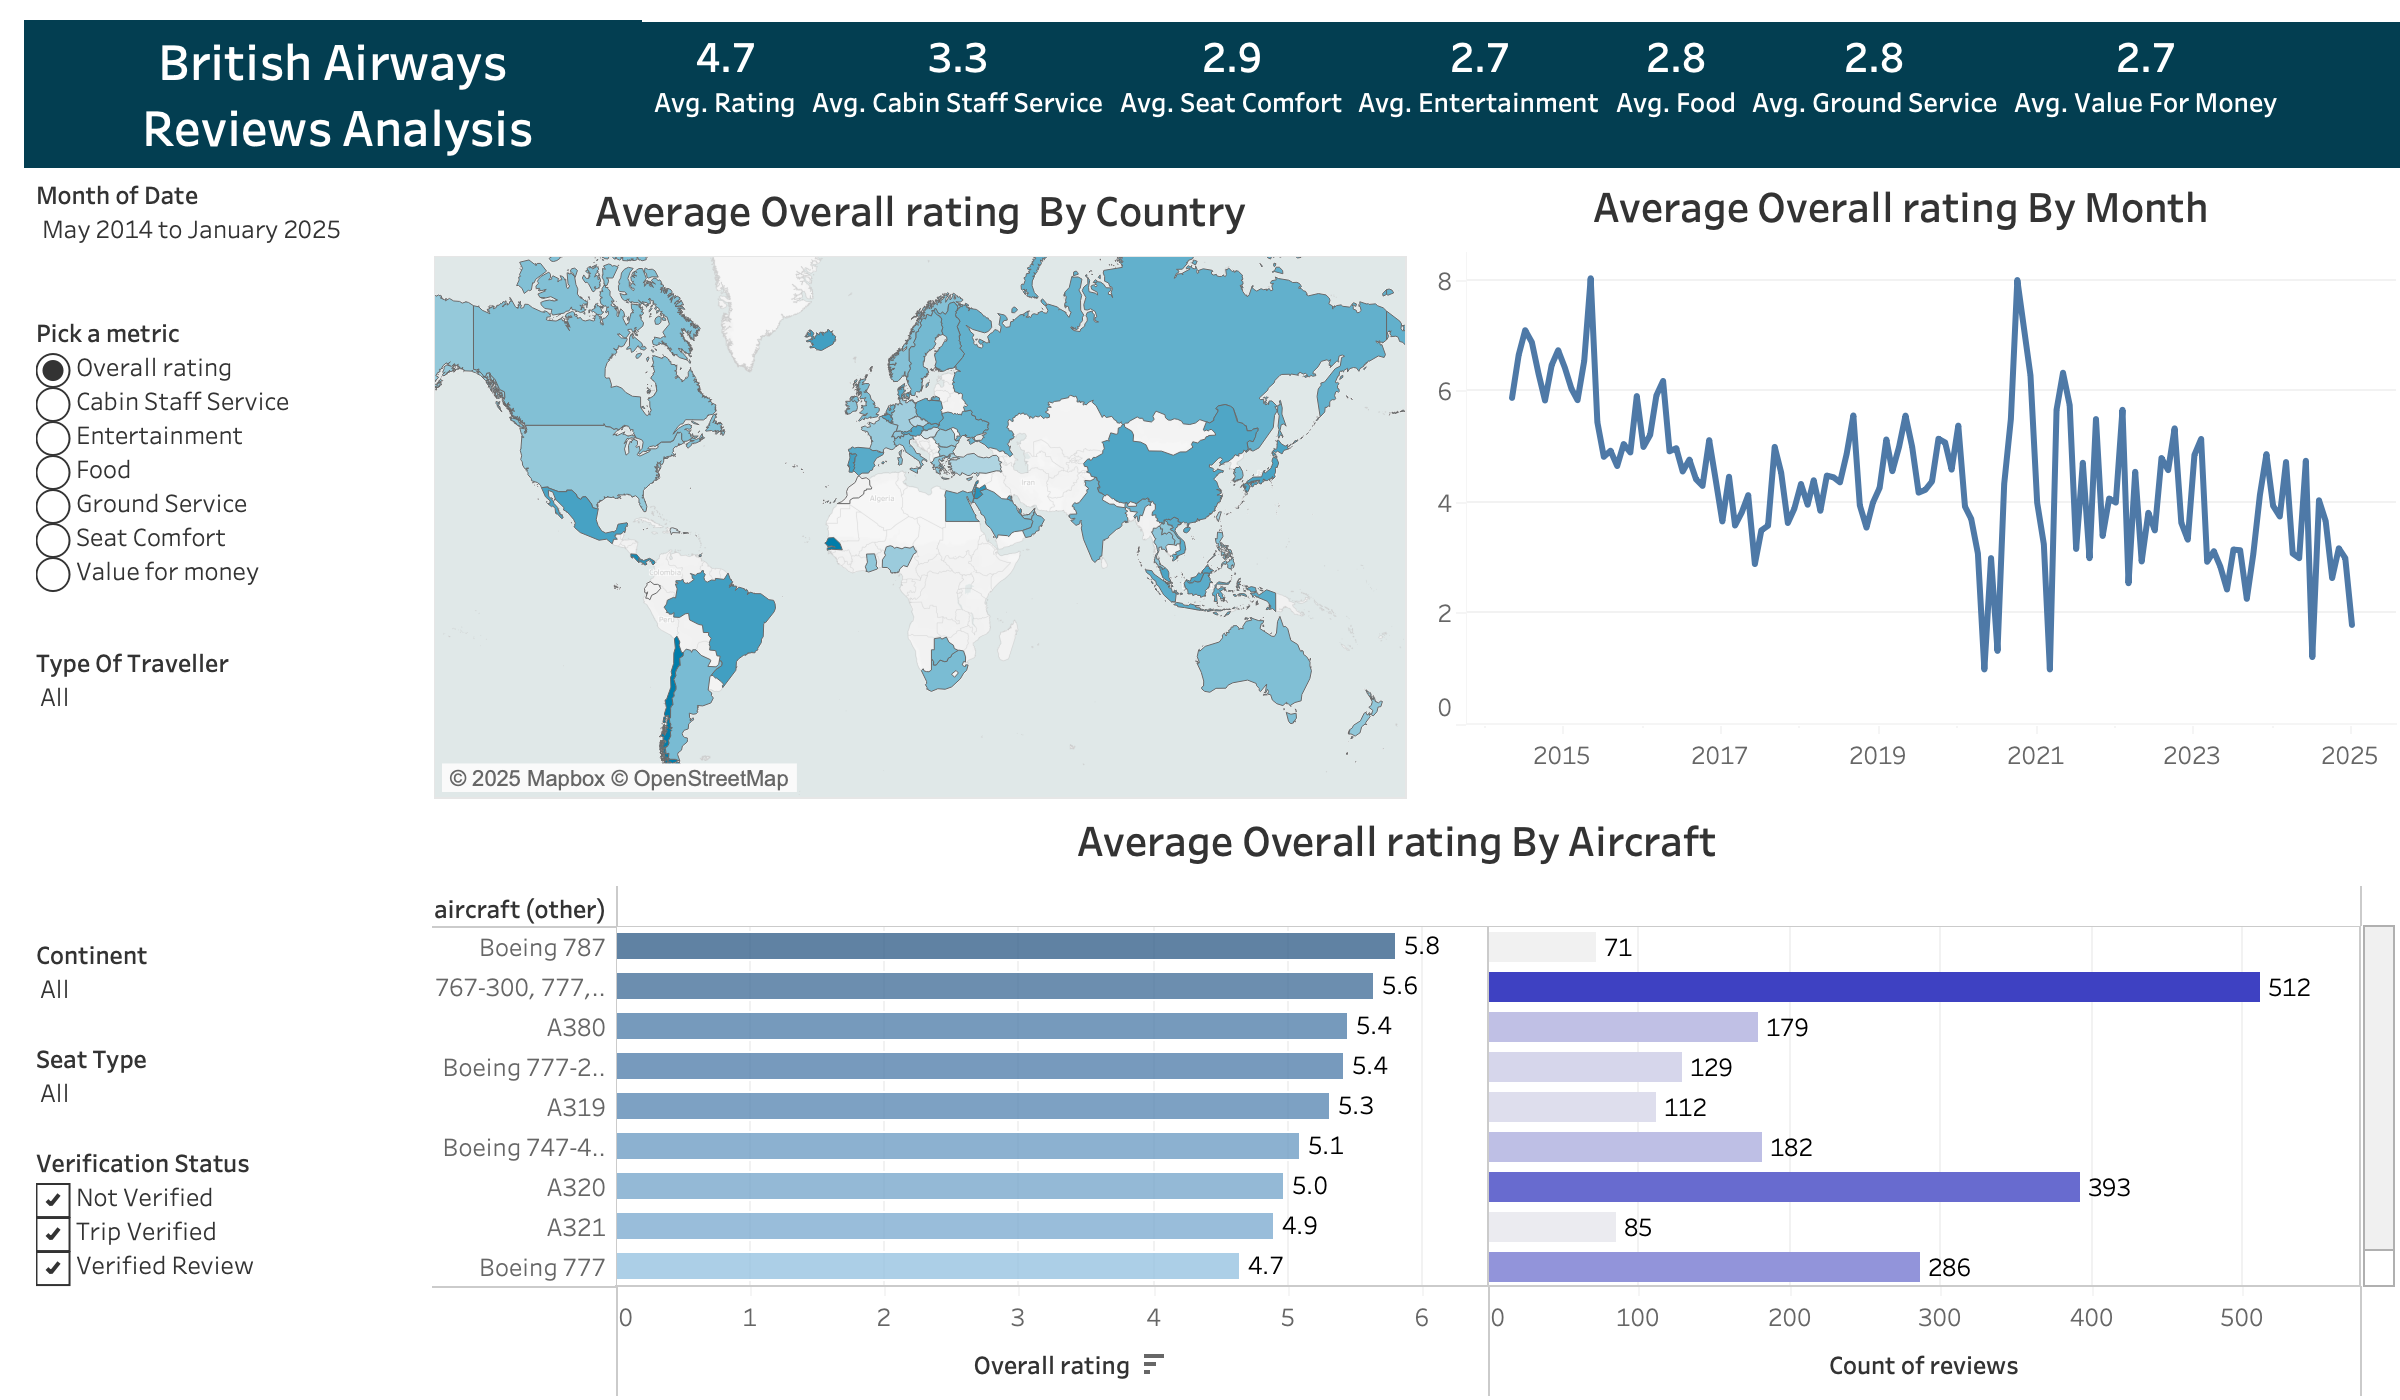

The dashboard page shown, as its layout file describes it:
{"tool":"tableau","page":{"name":"Dashboard 1","canvas":[1200,700],"ordinal":0},"visuals":[{"type":"text","box":[12,10,309,74]},{"type":"worksheet","title":"Summary","mark":"Automatic","box":[320,10,879,74]},{"type":"worksheet","title":"Month","mark":"Automatic","rows":["Calculation_7001408605441236992"],"cols":["date"],"box":[703,83,495,309]},{"type":"filter","title":"Month","param":"[federated.1ur3esg1oq3isy1f2102m04szt41].[tmn:date:qk]","box":[14,84,204,69]},{"type":"worksheet","title":"Map","mark":"Multipolygon","box":[217,85,487,315]},{"type":"parameter","param":"[Parameters].[Index Parameter]","box":[14,153,204,165]},{"type":"filter","title":"Month","param":"[federated.1ur3esg1oq3isy1f2102m04szt41].[none:type_of_traveller:nk]","box":[14,318,204,146]},{"type":"worksheet","title":"Aircraft","mark":"Automatic","cols":["Calculation_7001408605441236992","reviews_ED86F2976FA44DA5B871FD10511CD5B0"],"box":[216,400,983,299]},{"type":"filter","title":"Month","param":"[federated.1ur3esg1oq3isy1f2102m04szt41].[none:Continent:nk]","box":[14,464,204,52]},{"type":"filter","title":"Month","param":"[federated.1ur3esg1oq3isy1f2102m04szt41].[none:seat_type:nk]","box":[14,516,204,52]},{"type":"filter","title":"Map","param":"[federated.1ur3esg1oq3isy1f2102m04szt41].[none:verification_status:nk]","box":[14,568,204,108]}]}

Visuals, with their boxes in screenshot pixels (x1, y1, x2, y2), scaled from the page's 1200x700 canvas onto the 2400x1400 screenshot:
text: box(24, 20, 642, 168)
"Summary" worksheet: box(640, 20, 2398, 168)
"Month" worksheet: box(1406, 166, 2396, 784)
"Month" filter: box(28, 168, 436, 306)
"Map" worksheet (Multipolygon marks): box(434, 170, 1408, 800)
parameter: box(28, 306, 436, 636)
"Month" filter: box(28, 636, 436, 928)
"Aircraft" worksheet: box(432, 800, 2398, 1398)
"Month" filter: box(28, 928, 436, 1032)
"Month" filter: box(28, 1032, 436, 1136)
"Map" filter: box(28, 1136, 436, 1352)
